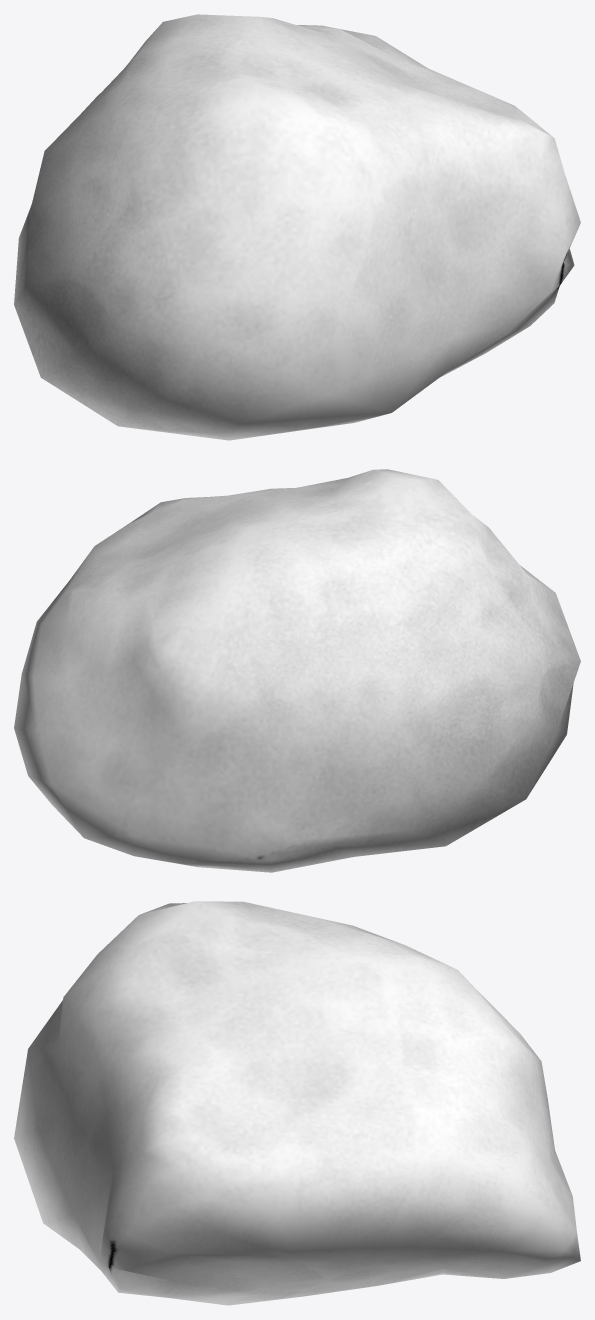
Rendered from Rock-8.fbx.
The picture shows the model from 3 angles, top to bottom: view 1: azimuth 30°, elevation 25°; view 2: azimuth 150°, elevation 25°; view 3: azimuth 270°, elevation 25°; orthographic projection. The views are drawn at different scales.
Parts seen in each view (by area): view 1: Cube.006; view 2: Cube.006; view 3: Cube.006.
Boxes of the visible parts, x1,y1,x2,y2 form: Cube.006: (14, 14, 580, 440); Cube.006: (14, 469, 580, 872); Cube.006: (14, 901, 580, 1305).
Size of the model in its own units: 113 by 75.73 by 111.
